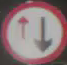Two way: (7, 6, 58, 53)
